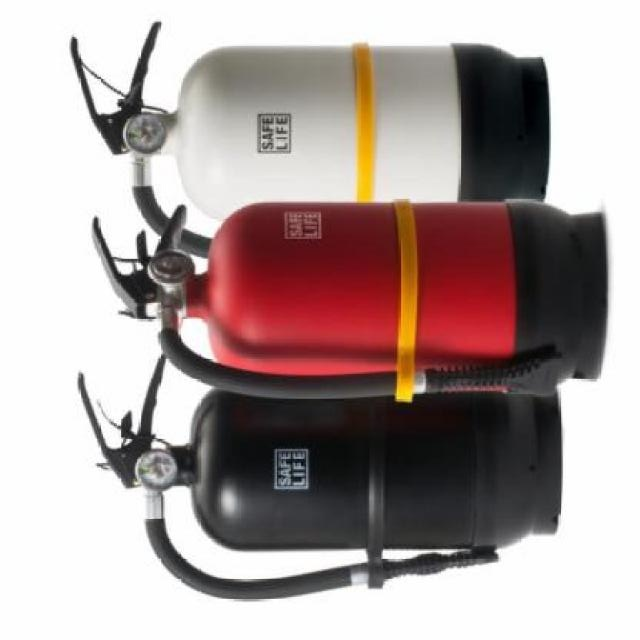fire extinguisher: (78, 353, 564, 602), (69, 22, 549, 260), (90, 201, 607, 399)
